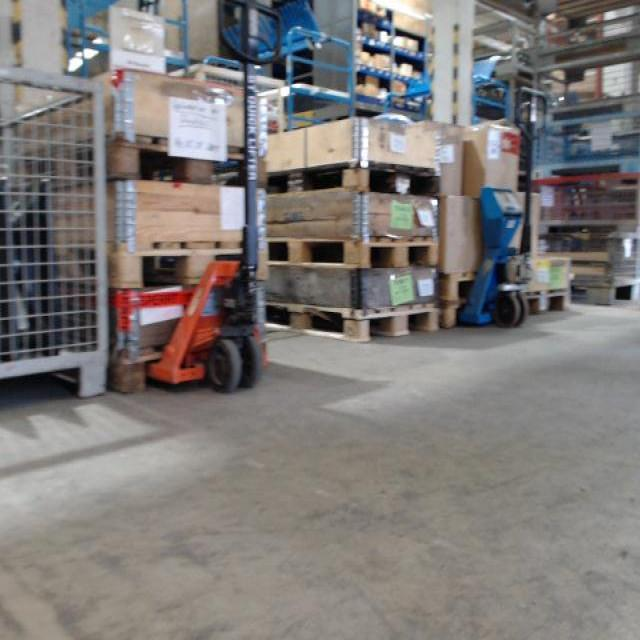pallet: (118, 325, 271, 399), (106, 135, 267, 188), (266, 300, 438, 342), (264, 232, 441, 270), (269, 162, 439, 198), (109, 243, 268, 280), (527, 289, 572, 315)
pallet_truck: (146, 3, 285, 393), (455, 85, 552, 333)
stillage: (1, 59, 115, 415), (558, 229, 638, 304), (554, 106, 639, 169), (556, 173, 639, 227)
